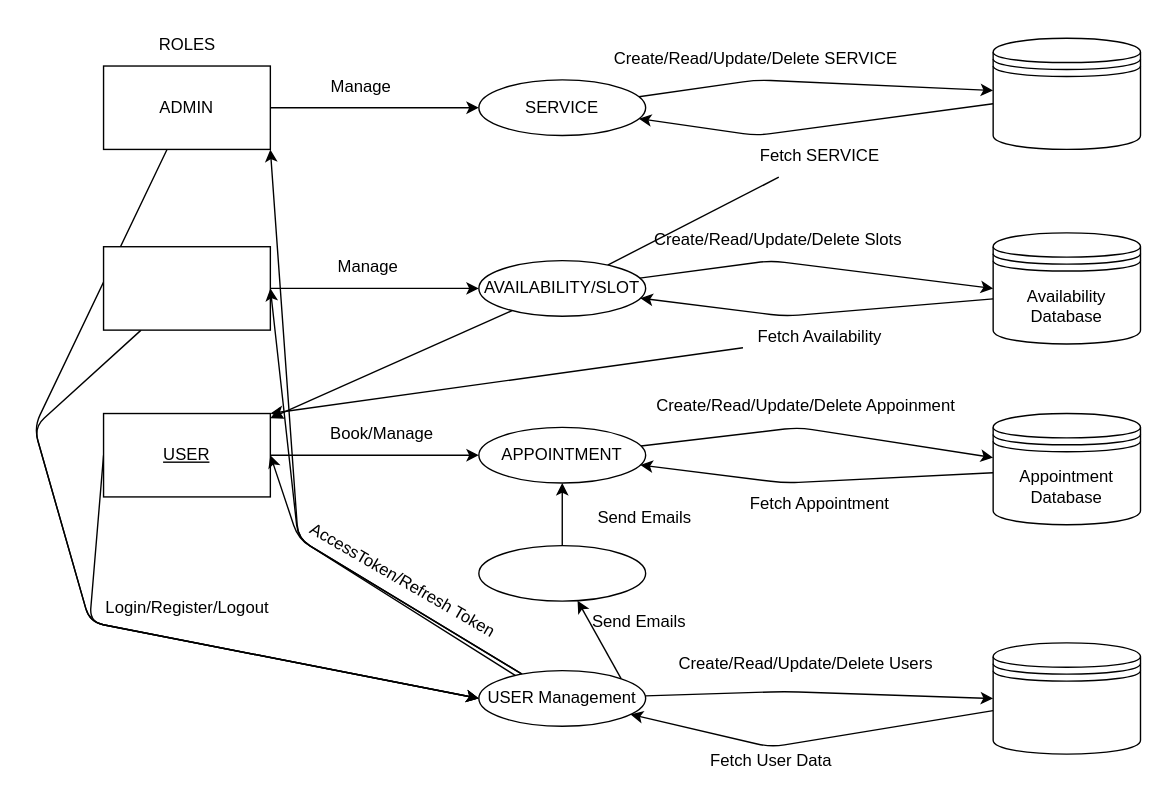
Some shapes in this 1165 by 805 pixel diagram are drawn without their labels. Here are the shapes that lost their labels. From the top down, the centre of each, then its label:
At point 1066,93: "Service Database".
At point 186,287: "STAFF".
At point 561,572: "Email Service".
At point 1066,697: "User Database".
